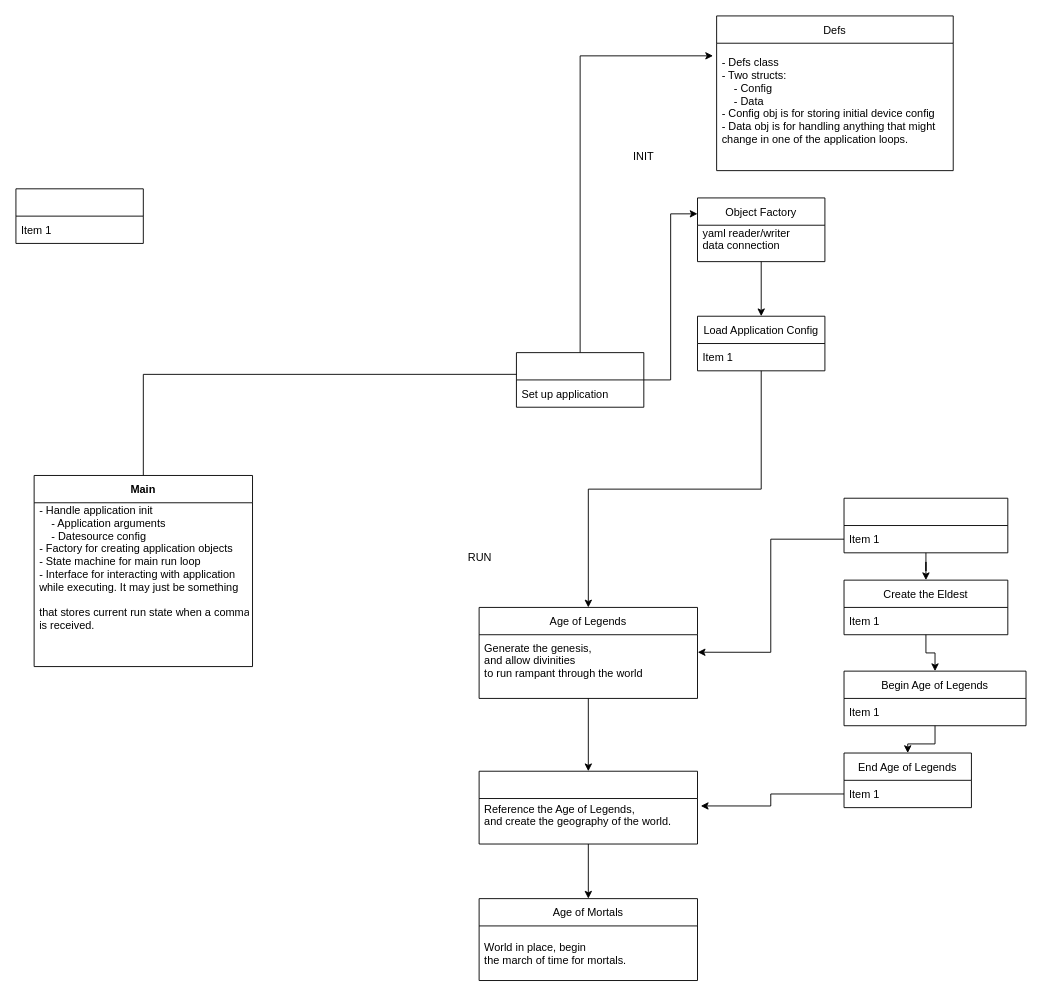
Some shapes in this 1042 by 996 pixel diagram are drawn without their labels. Here are the shapes that lost their labels. From the top down, the box of each, then its label:
(15, 188, 143, 243): Sample Container
(516, 352, 644, 407): Application Init
(843, 497, 1008, 553): Generate Ancient Language
(478, 770, 698, 844): Generate World
